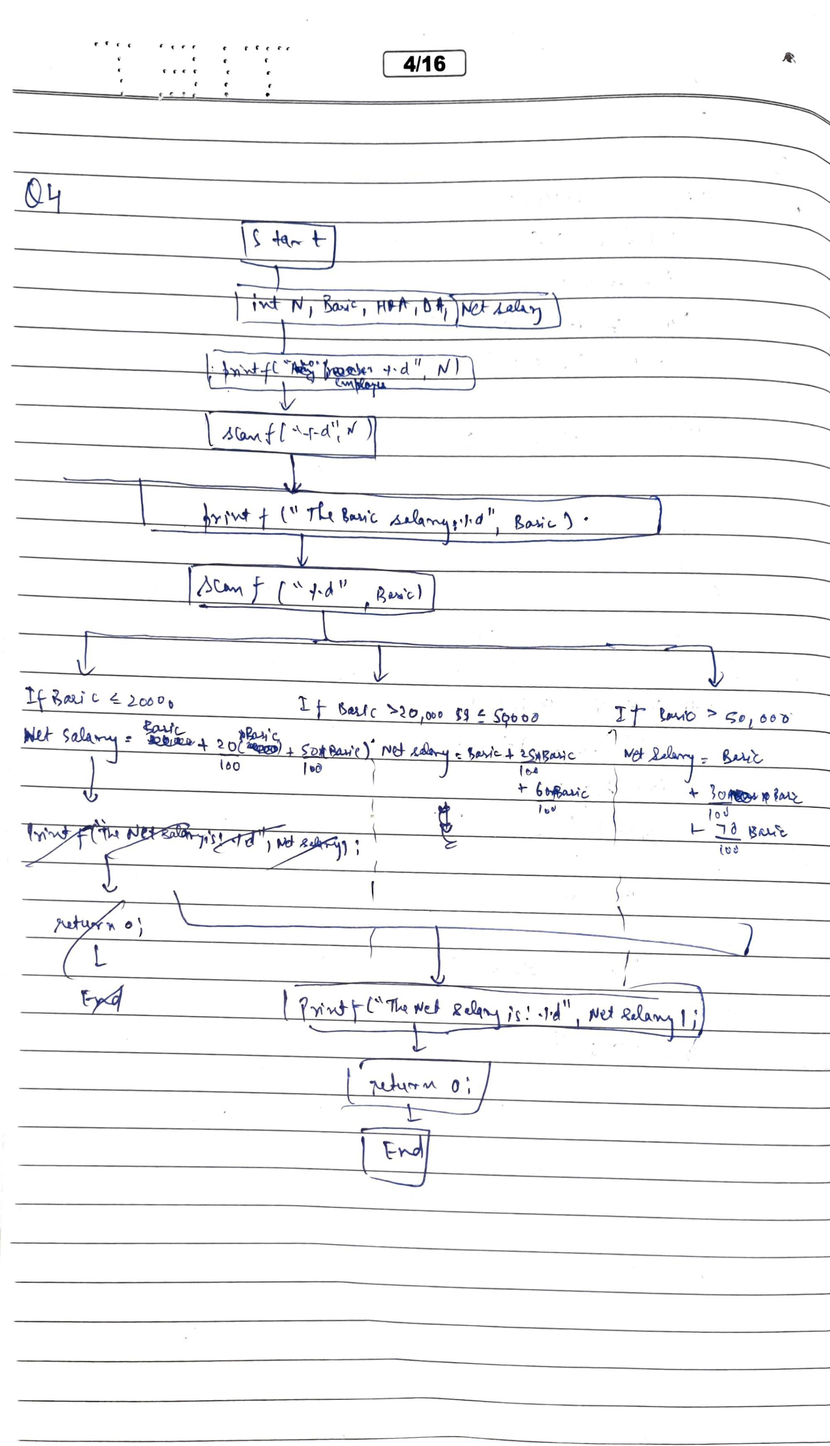cuttings: (22, 815, 369, 1017), (434, 802, 460, 853), (321, 361, 369, 383), (727, 787, 772, 807), (146, 734, 196, 748), (289, 364, 318, 383), (247, 742, 279, 755)
